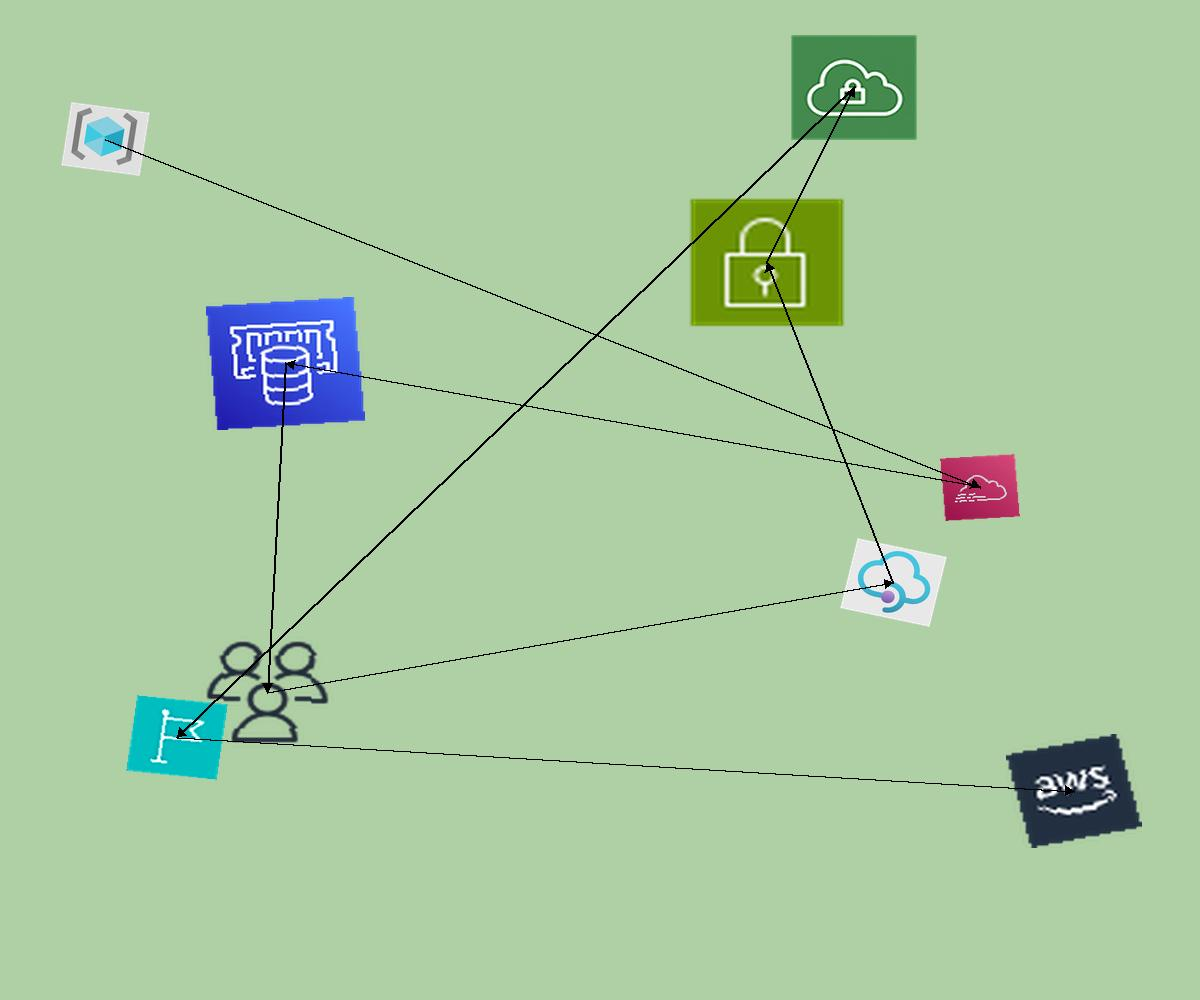AWS-Cloud-logo: (1006, 734, 1142, 848)
AWS-CloudTrail: (940, 454, 1020, 521)
AWS-ElastiCache: (206, 297, 365, 430)
AWS-Private_vpc: (790, 34, 918, 141)
AWS-Public-subnet: (687, 196, 847, 329)
AWS-Region: (126, 695, 228, 780)
AWS-Res_Users: (199, 635, 336, 749)
Azure_api_gateway: (840, 538, 947, 627)
Azure_resource_group: (61, 102, 150, 176)
